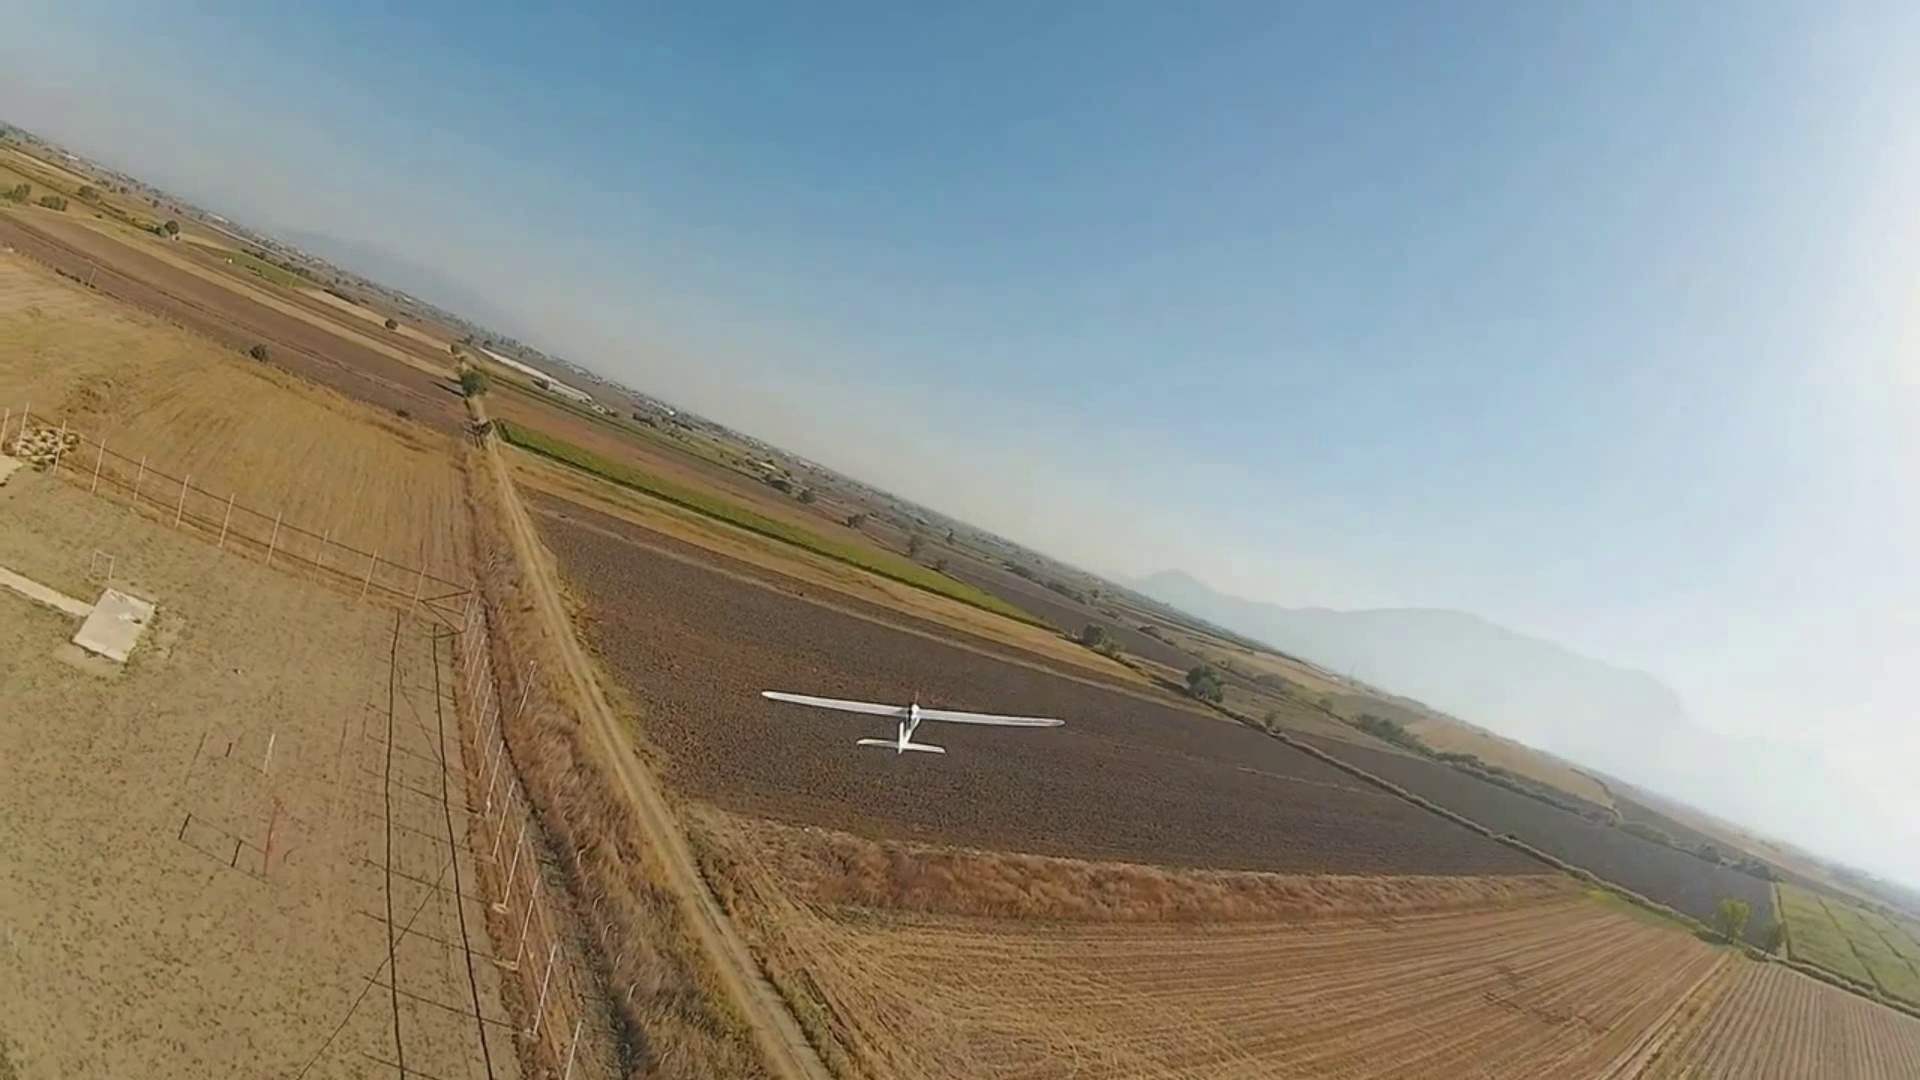airplane: (157, 291, 1920, 1013)
